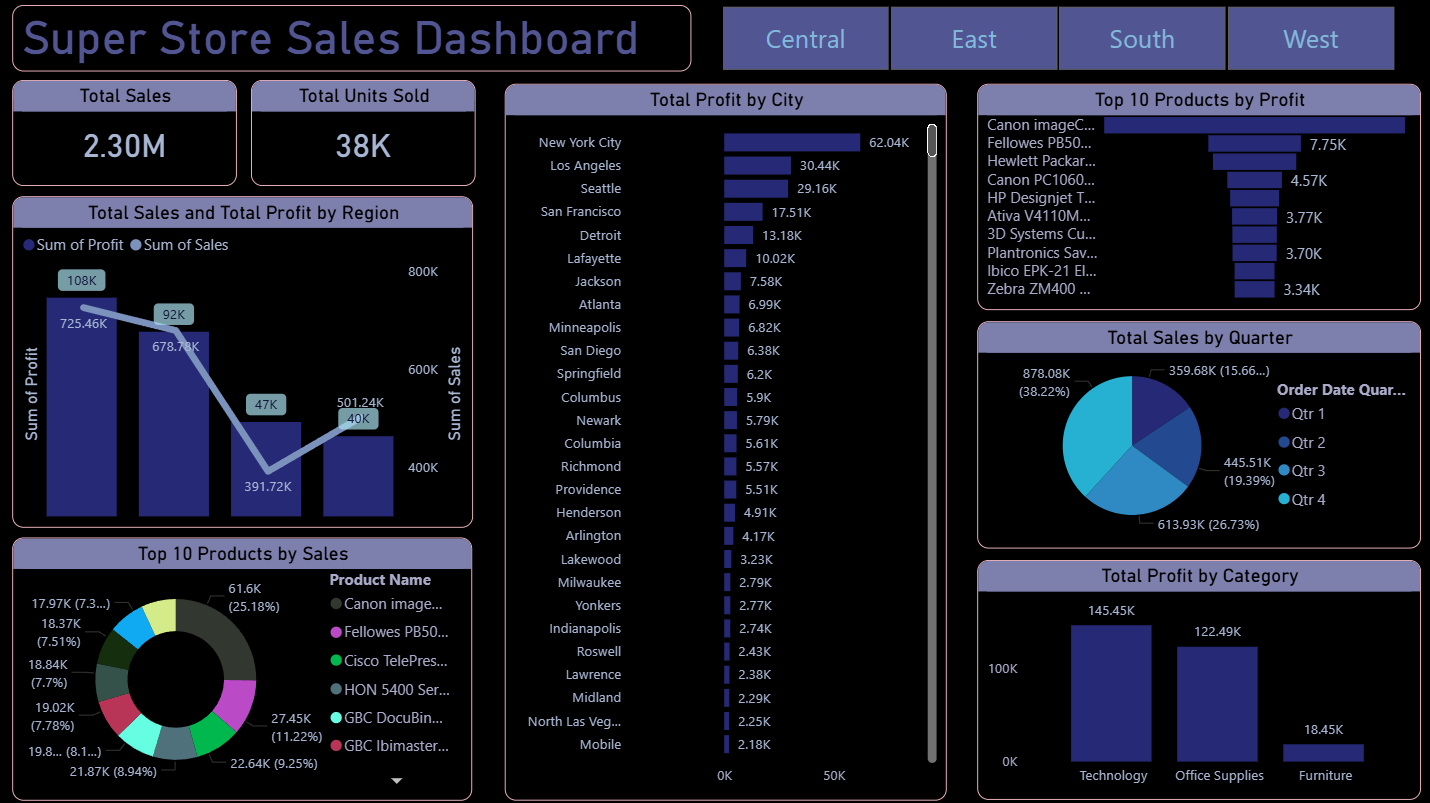

This screenshot's page, from the dashboard's own definition file:
{"tool":"powerbi","page":{"name":"Page 1","canvas":[1280,720],"ordinal":0},"visuals":[{"type":"textbox","title":"Super Store Sales Dashboard","box":[14.5,8.6,604.9,58.9],"z":0},{"type":"pieChart","title":"Total Sales by Quarter","fields":{"Category":["Sample - Superstore.Order Date.Variation.Date Hierarchy.Quarter"],"Y":["Sum(Sample - Superstore.Sales)"]},"box":[873.8,290.2,395.2,202.6],"z":1000},{"type":"clusteredColumnChart","title":"Total Profit by Category","fields":{"Category":["Sample - Superstore.Category"],"Y":["Sum(Sample - Superstore.Profit)"]},"box":[873.8,503.2,395.2,213.7],"z":2000},{"type":"donutChart","title":"Top 10 Products by Sales","fields":{"Category":["Sample - Superstore.Product Name"],"Y":["Sum(Sample - Superstore.Sales)"]},"box":[14.5,483.1,409.6,234],"z":3000},{"type":"funnel","title":"Top 10 Products by Profit","fields":{"Category":["Sample - Superstore.Product Name"],"Y":["Sum(Sample - Superstore.Profit)"]},"box":[873.9,78.5,395.1,201.2],"z":4000},{"type":"lineClusteredColumnComboChart","title":"Total Sales and Total Profit by Region","fields":{"Category":["Sample - Superstore.Region"],"Y":["Sum(Sample - Superstore.Profit)"],"Y2":["Sum(Sample - Superstore.Sales)"]},"box":[14.5,179.4,410.8,295],"z":5000},{"type":"slicer","fields":{"Values":["Sample - Superstore.Region"]},"box":[620.9,3.7,647.9,69.9],"z":6000},{"type":"card","title":"Total Sales","fields":{"Values":["Sum(Sample - Superstore.Sales)"]},"box":[14.5,76.2,200,94.5],"z":9000},{"type":"card","title":"Total Units Sold","fields":{"Values":["Sum(Sample - Superstore.Quantity)"]},"box":[227,76.2,200,94.5],"z":12000},{"type":"clusteredBarChart","title":"Total Profit by City","fields":{"Category":["Sample - Superstore.City"],"Y":["Sum(Sample - Superstore.Profit)"]},"box":[453.5,78.5,393.9,638],"z":13000}]}

Visuals, with their boxes in screenshot pixels (x1, y1, x2, y2), scaled from the page's 1280x720 canvas onto the 1430x803 screenshot:
"Super Store Sales Dashboard" textbox: 16,10,692,75
"Total Sales by Quarter" pieChart: 976,324,1418,550
"Total Profit by Category" clusteredColumnChart: 976,561,1418,800
"Top 10 Products by Sales" donutChart: 16,539,474,800
"Top 10 Products by Profit" funnel: 976,88,1418,312
"Total Sales and Total Profit by Region" lineClusteredColumnComboChart: 16,200,475,529
slicer - Sample - Superstore.Region: 694,4,1417,82
"Total Sales" card: 16,85,240,190
"Total Units Sold" card: 254,85,477,190
"Total Profit by City" clusteredBarChart: 507,88,947,799
